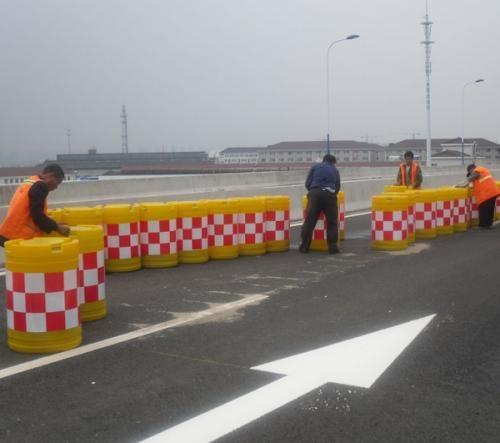cone_barrel: (1, 233, 80, 350), (69, 224, 104, 322), (237, 194, 285, 254), (140, 197, 176, 268), (369, 190, 411, 250), (101, 203, 137, 272), (203, 194, 237, 258), (179, 196, 204, 262), (260, 195, 288, 252), (412, 187, 441, 240), (441, 184, 466, 232)
